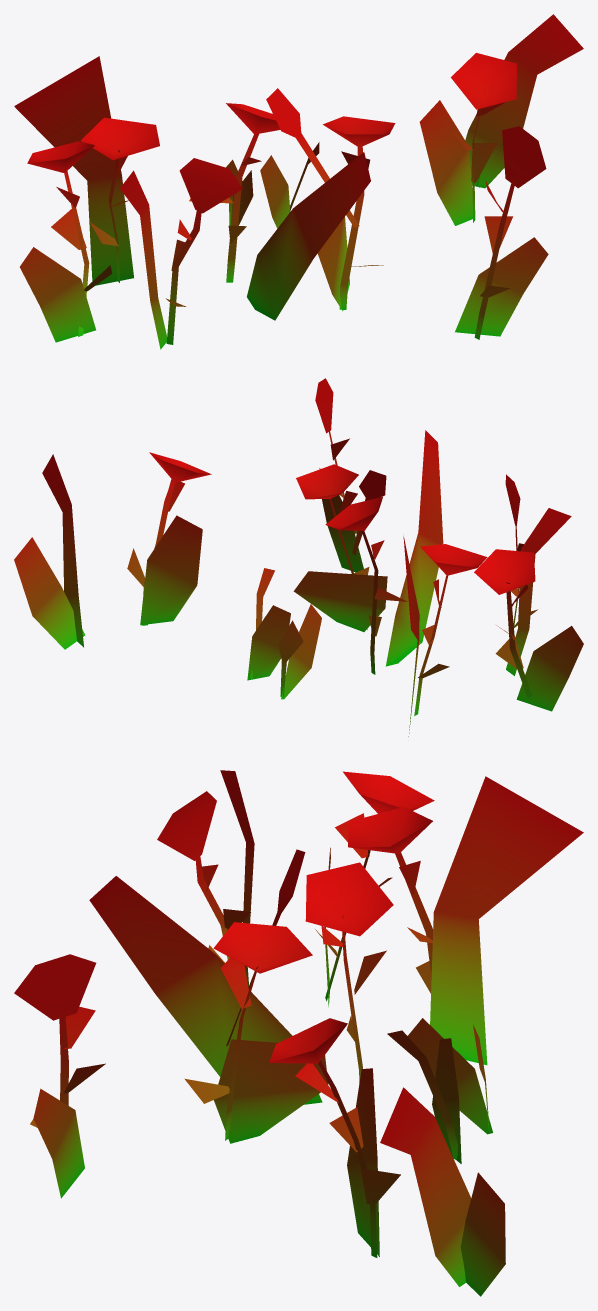
File: Var10_LOD2.fbx
3 views of the same model, one above another, from view 1: azimuth 30°, elevation 25°; view 2: azimuth 150°, elevation 25°; view 3: azimuth 270°, elevation 25° (orthographic). The views are drawn at different scales.
Parts seen in each view (by area): view 1: _708b_Var10_LOD2; view 2: _708b_Var10_LOD2; view 3: _708b_Var10_LOD2.
Part boxes in pixels (x1,y1,x2,y2): _708b_Var10_LOD2: (14,14,583,349); _708b_Var10_LOD2: (14,378,583,736); _708b_Var10_LOD2: (14,770,583,1296).
Size of the model in its own units: 18.66 by 7.01 by 12.35.
